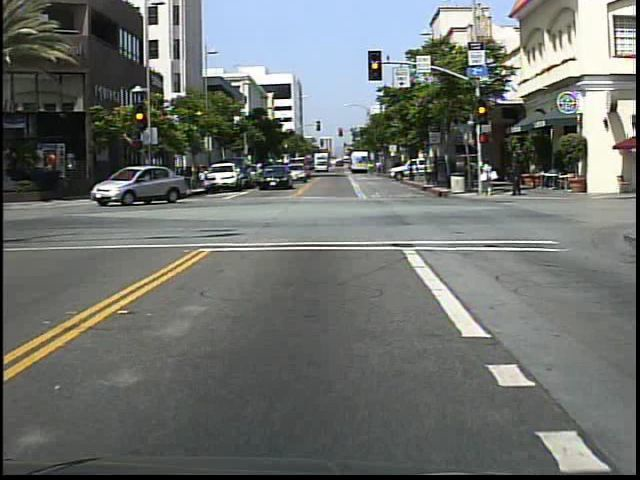person: (478, 156, 499, 200), (508, 154, 525, 197), (125, 164, 143, 199)
